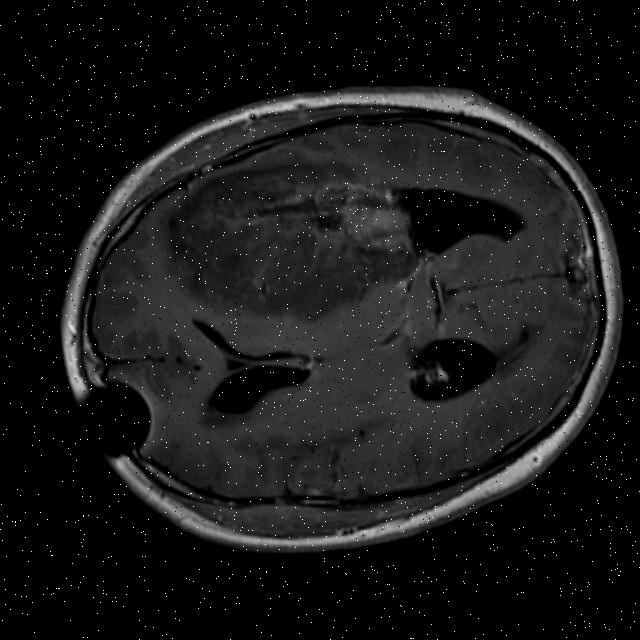Glioma: (145, 126, 433, 356)
